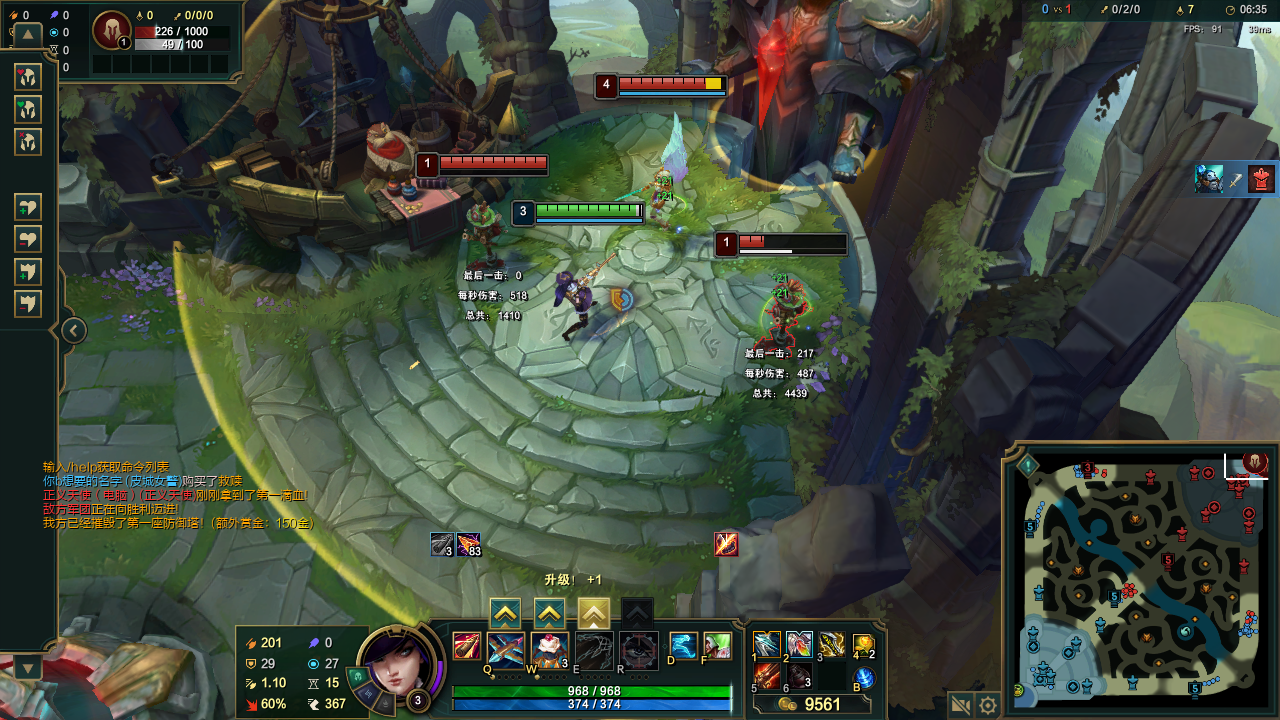DFYX: (434, 151, 550, 168), (736, 229, 848, 245), (618, 74, 728, 90)
